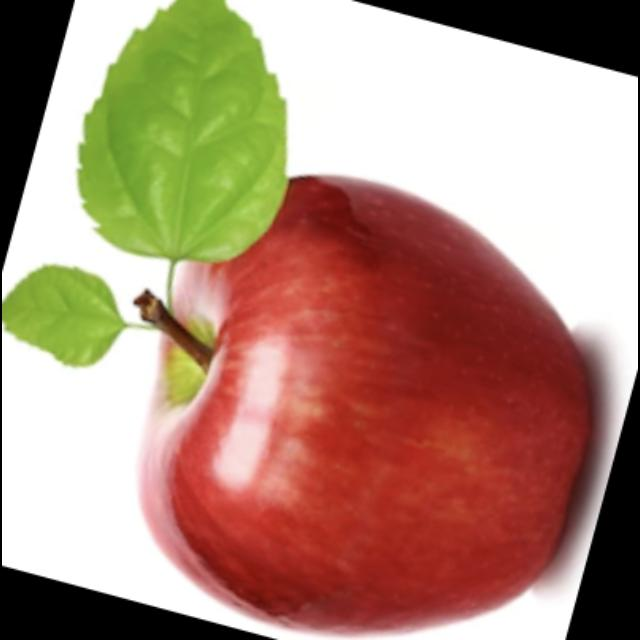Apel Segar: (24, 52, 606, 610)
